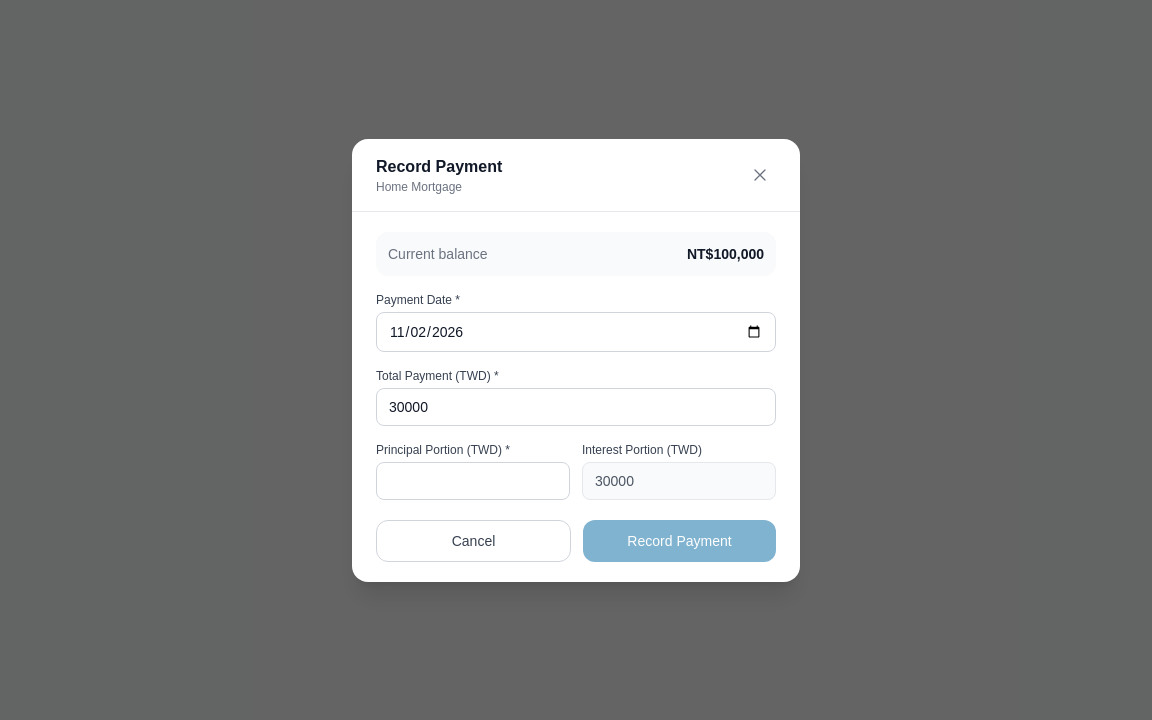
Test: RecordPaymentModal › shows error when principalPortion exceeds current_balance
Note: Set total amount first
Step 1. Replace the text in the number field labelled "Total Payment (TWD) *" with "200000" → point(576, 406), box [376,388,776,426]
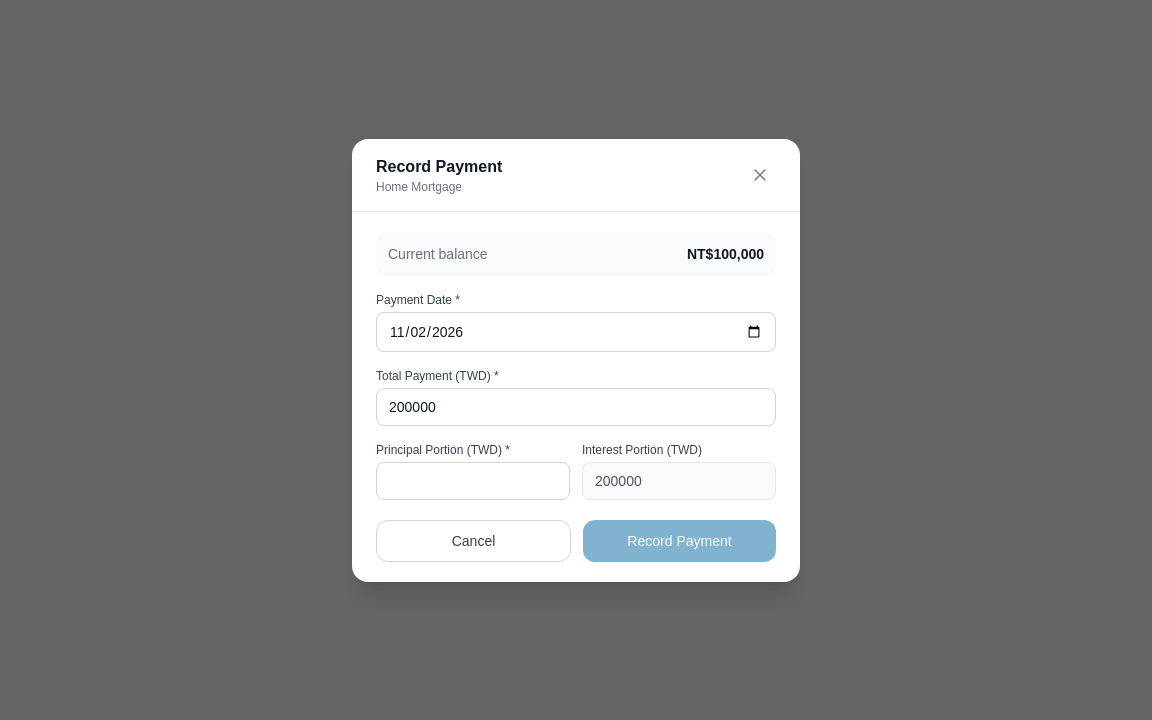
Note: Set principal greater than balance
Step 2. Type "200000" into the number field labelled "Principal Portion (TWD) *" → point(473, 480), box [376,462,570,500]
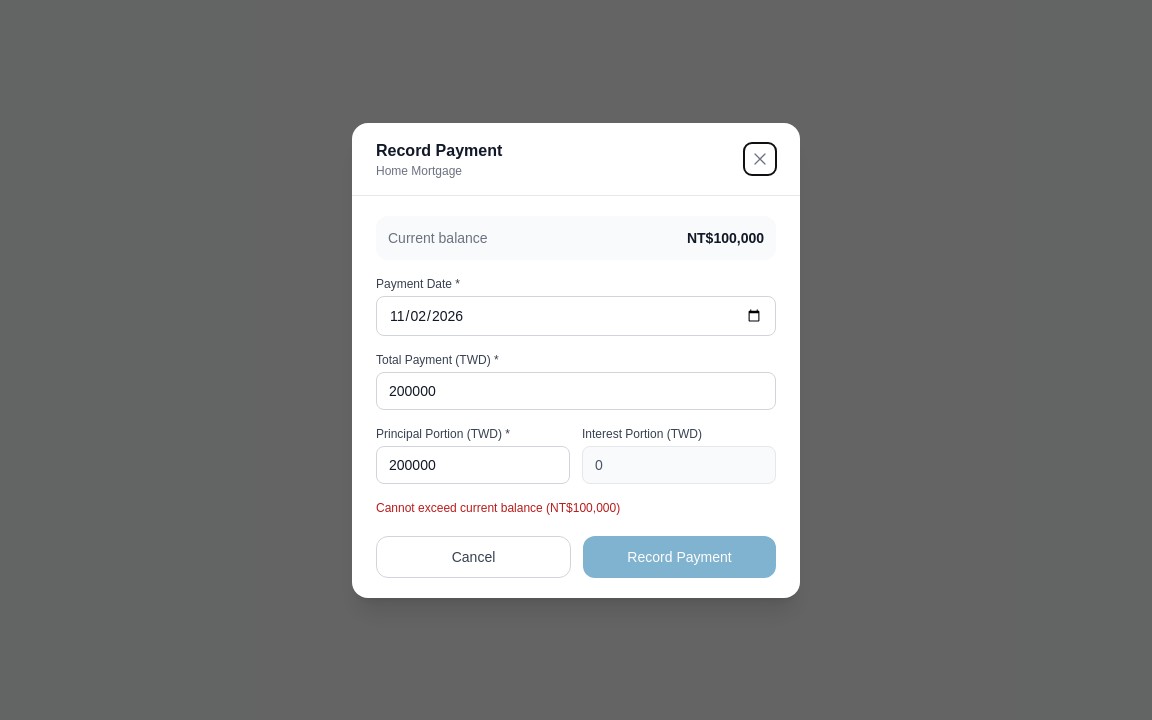
Result: the text "Cannot exceed current balance (NT$100,000)" is shown at [376,500,620,514]
